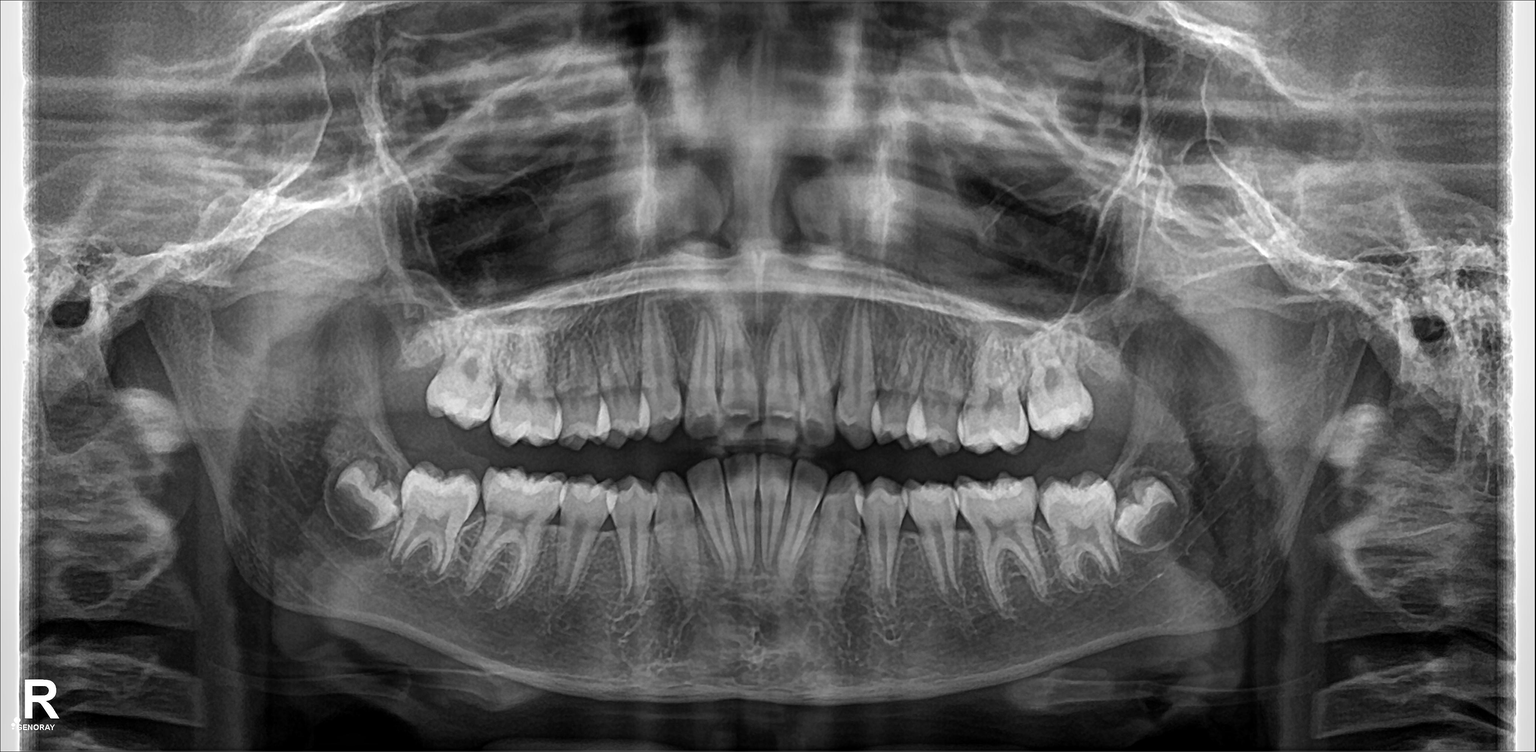Impacted Third Molar: (318, 463, 402, 532), (1114, 477, 1177, 547)
Missing Tooth: (1076, 329, 1128, 428), (384, 307, 429, 408)
